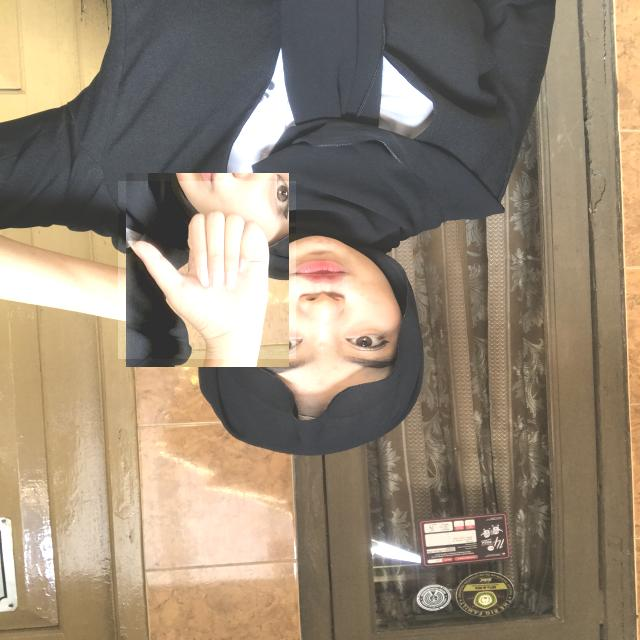sedih: (118, 181, 296, 359)
